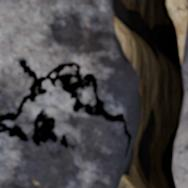brick: (0, 0, 139, 136), (0, 80, 126, 187), (173, 27, 187, 187)
crack: (0, 0, 185, 187)
